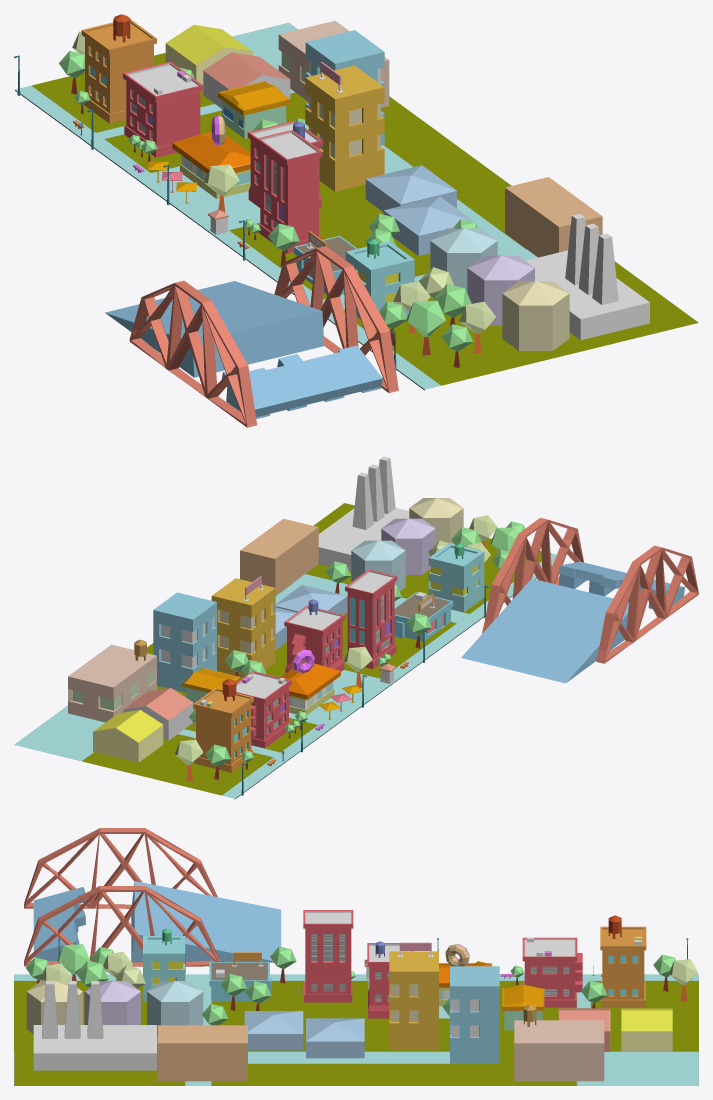
Rendered from city_built_6.glb.
The picture shows the model from 3 angles, top to bottom: view 1: azimuth 30°, elevation 25°; view 2: azimuth 150°, elevation 25°; view 3: azimuth 270°, elevation 25°; orthographic projection. The views are drawn at different scales.
Visible parts, largest first — view 1: ground, bridge.018, bridge.016, second_plan building, bridge.001, bridge.014, building.003, building, factory building, building.001, Cylinder building.002, factory building.006 (+23 smaller); view 2: ground, bridge.016, bridge.018, second_plan building.001, third_plan building, second_plan building, bridge.001, factory building, building.003, building.001, building.005, building.002 (+17 smaller); view 3: ground, bridge.016, third_plan building, factory building, factory building.006, second_plan building.001, second_plan building, building.003, bridge.001, bridge.018, building, building.001 (+27 smaller).
Boxes of the visible parts, bbox=[...] form: ground: bbox=[15, 22, 698, 390]; bridge.018: bbox=[129, 280, 256, 427]; bridge.016: bbox=[105, 281, 324, 377]; second_plan building: bbox=[305, 65, 384, 191]; bridge.001: bbox=[274, 246, 398, 392]; bridge.014: bbox=[221, 345, 382, 418]; building.003: bbox=[257, 130, 322, 253]; building: bbox=[123, 61, 203, 157]; factory building: bbox=[505, 177, 602, 257]; building.001: bbox=[81, 19, 156, 123]; Cylinder building.002: bbox=[502, 281, 569, 350]; factory building.006: bbox=[525, 250, 649, 339]; ground: bbox=[14, 503, 556, 799]; bridge.016: bbox=[461, 578, 628, 683]; bridge.018: bbox=[596, 545, 698, 663]; second_plan building.001: bbox=[153, 592, 216, 692]; third_plan building: bbox=[68, 644, 156, 722]; second_plan building: bbox=[211, 578, 275, 677]; bridge.001: bbox=[482, 517, 583, 633]; factory building: bbox=[240, 518, 318, 594]; building.003: bbox=[345, 569, 397, 669]; building.001: bbox=[193, 688, 253, 772]; building.005: bbox=[428, 543, 484, 612]; building.002: bbox=[284, 606, 345, 673]; ground: bbox=[14, 974, 698, 1085]; bridge.016: bbox=[131, 881, 281, 962]; third_plan building: bbox=[514, 1020, 604, 1081]; factory building: bbox=[157, 1025, 247, 1081]; factory building.006: bbox=[33, 1025, 156, 1070]; second_plan building.001: bbox=[450, 966, 499, 1063]; second_plan building: bbox=[389, 951, 438, 1048]; building.003: bbox=[303, 910, 353, 1002]; bridge.001: bbox=[24, 886, 220, 966]; bridge.018: bbox=[24, 828, 217, 908]; building: bbox=[522, 937, 582, 1007]; building.001: bbox=[600, 926, 646, 1007].
Bounding box in the file's own units: 20.39 × 4.96 × 32.49.
40 materials, 21 textured.
